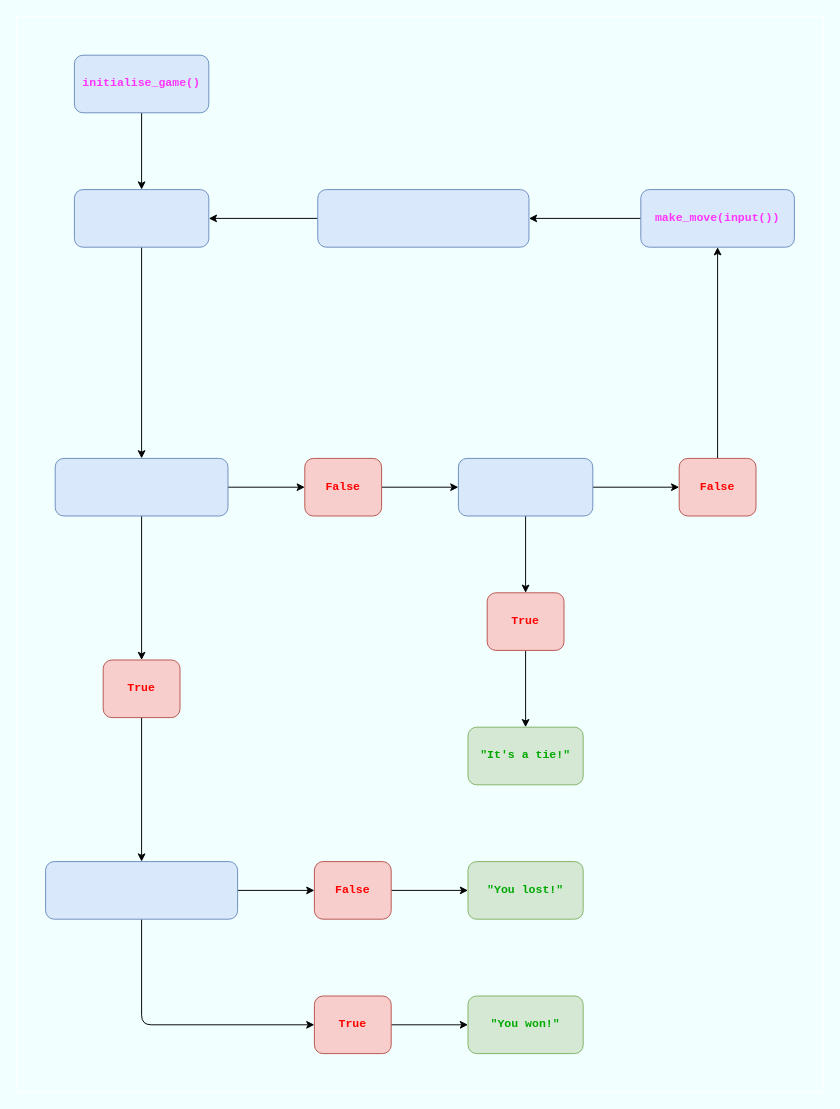
This 840x1109 diagram has some shape labels left out. Here are the shapes that lost their labels. From the top down, the centre of each, then its label:
the point at 141,218: draw_board(board)
the point at 423,218: switch_player(players_move)
the point at 141,486: three_in_a_row(board)
the point at 525,486: full_board(board)
the point at 141,890: player_won(players_symbol)
